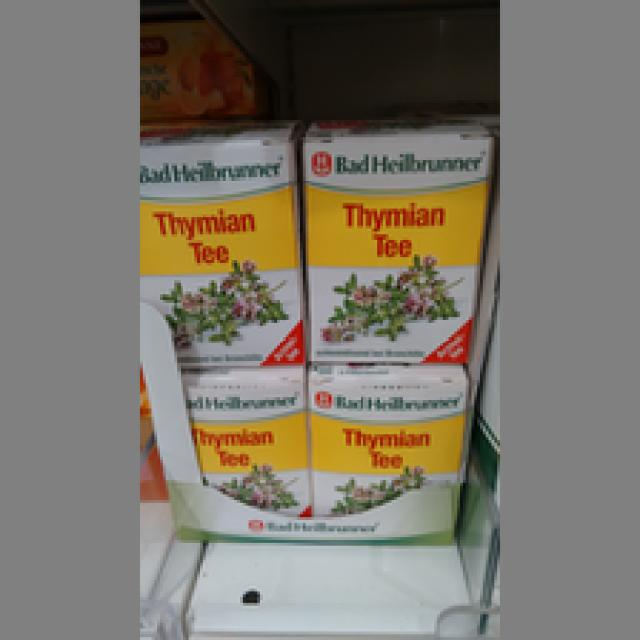groceries: (300, 114, 494, 369), (137, 123, 306, 371), (306, 363, 466, 517), (177, 366, 306, 511)
